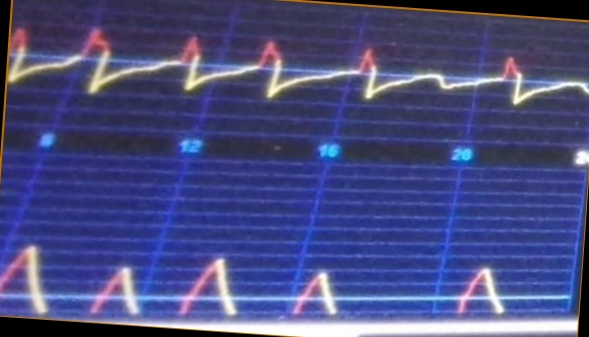Ineffective_effort Flow: (11, 17, 589, 118)
Ineffective_effort Volume: (1, 229, 514, 317)
